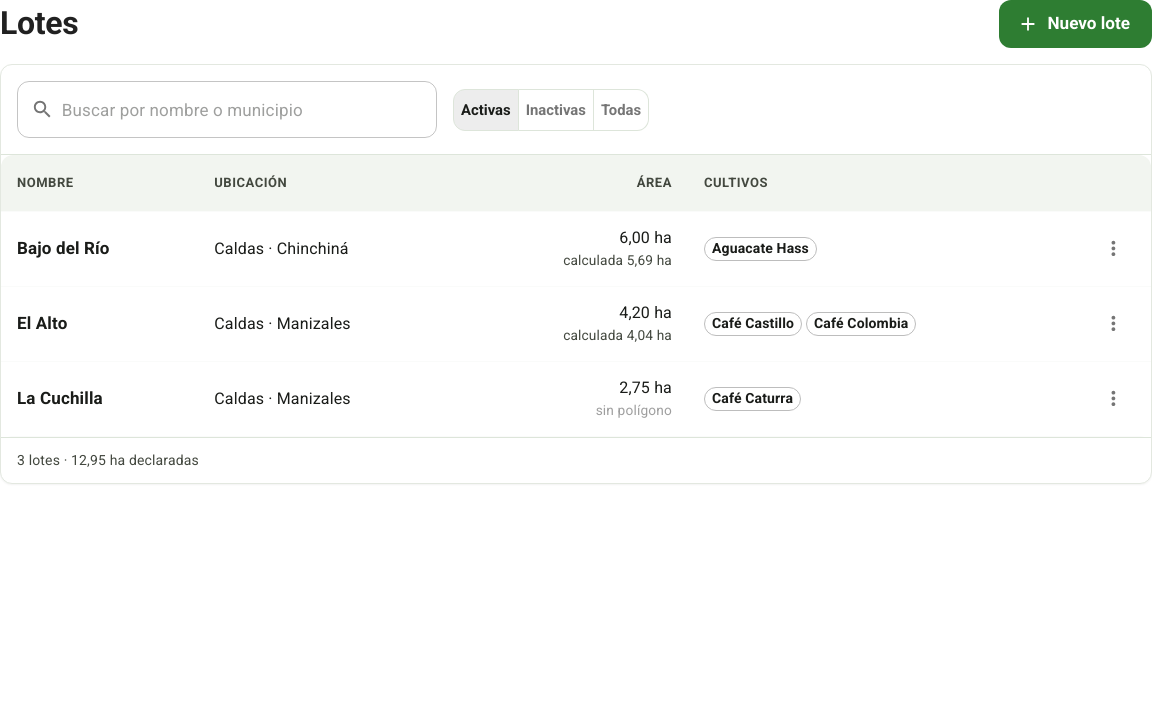
out of service › says why the server refused, and the notice can be closed
Expected: the text "El Alto" is shown, [17,313,67,333]
Click the button named "Acciones de El Alto" at (1113, 324), box [1091,302,1135,346]
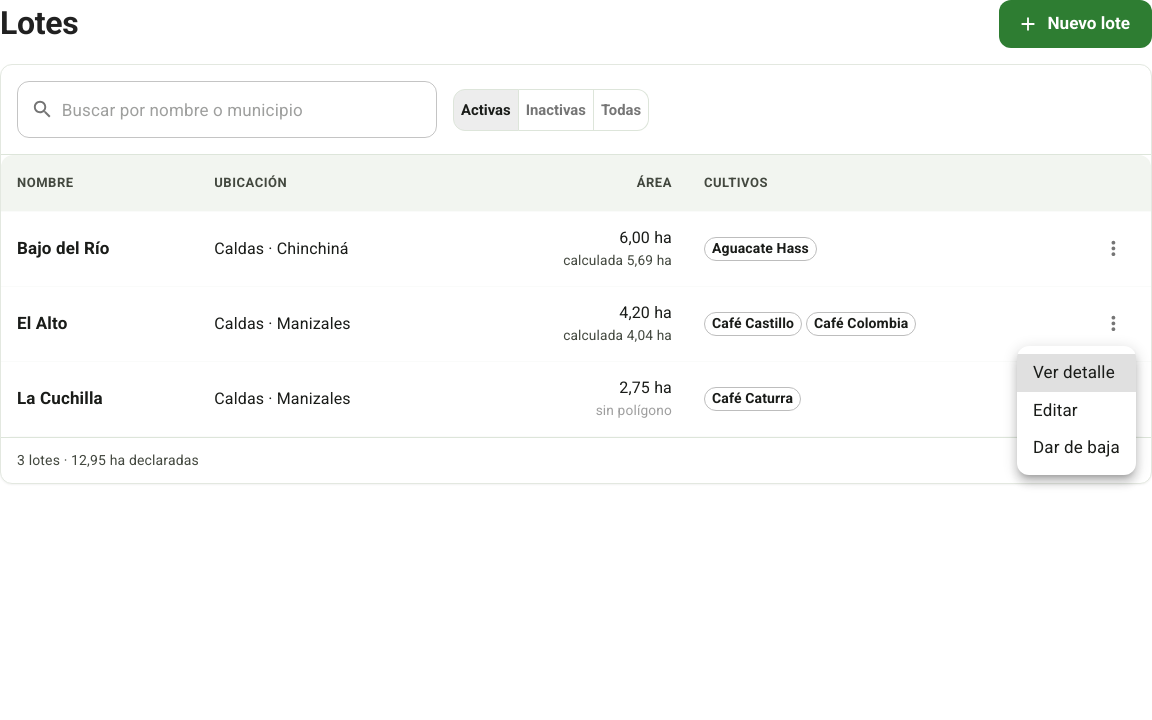
Click the menu item "Dar de baja" at (1076, 447), box [1033,437,1120,457]
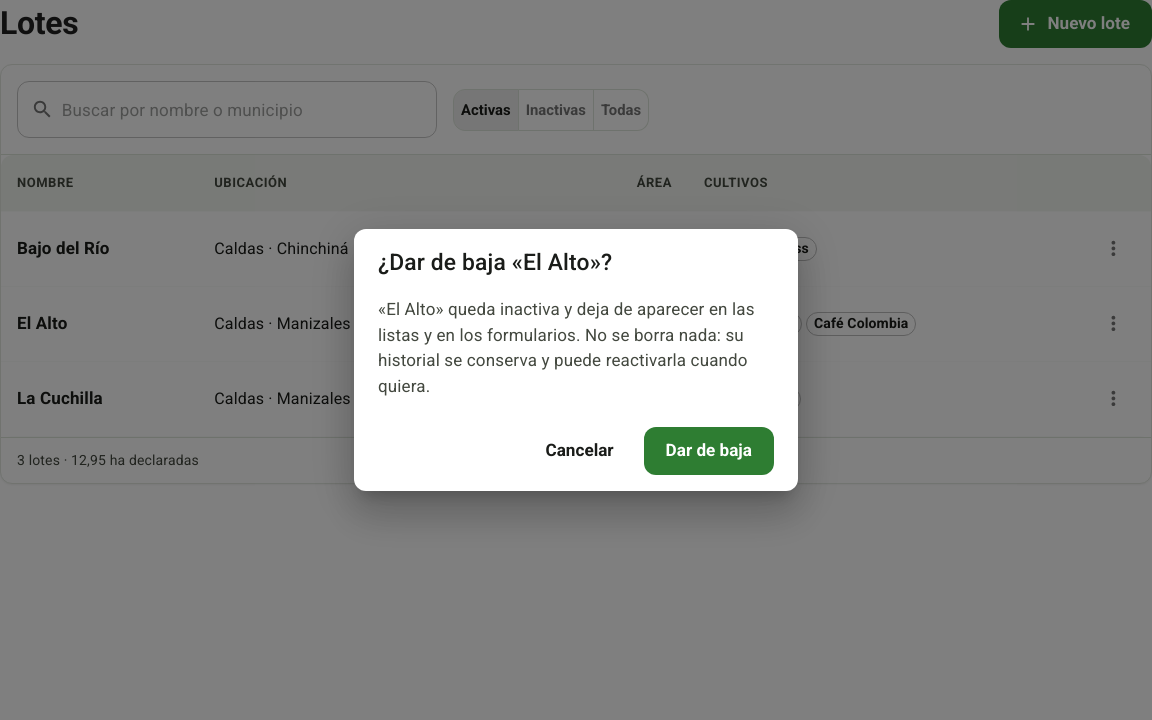
Click the button "Dar de baja" at (709, 451), box [644,427,774,475]
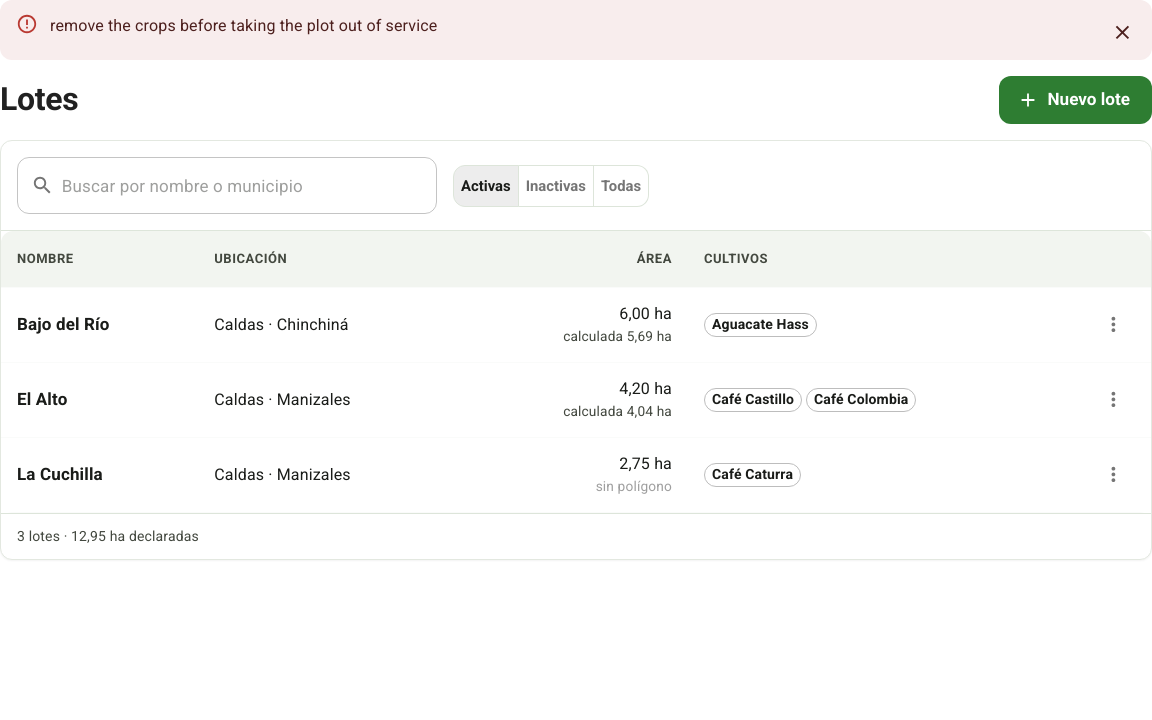
Now the dialog is gone
Now the message "remove the crops before taking the plot out of service" is shown, box [0,0,1151,60]
Click the button named "Cerrar" at (1122, 32), box [1100,10,1144,54]
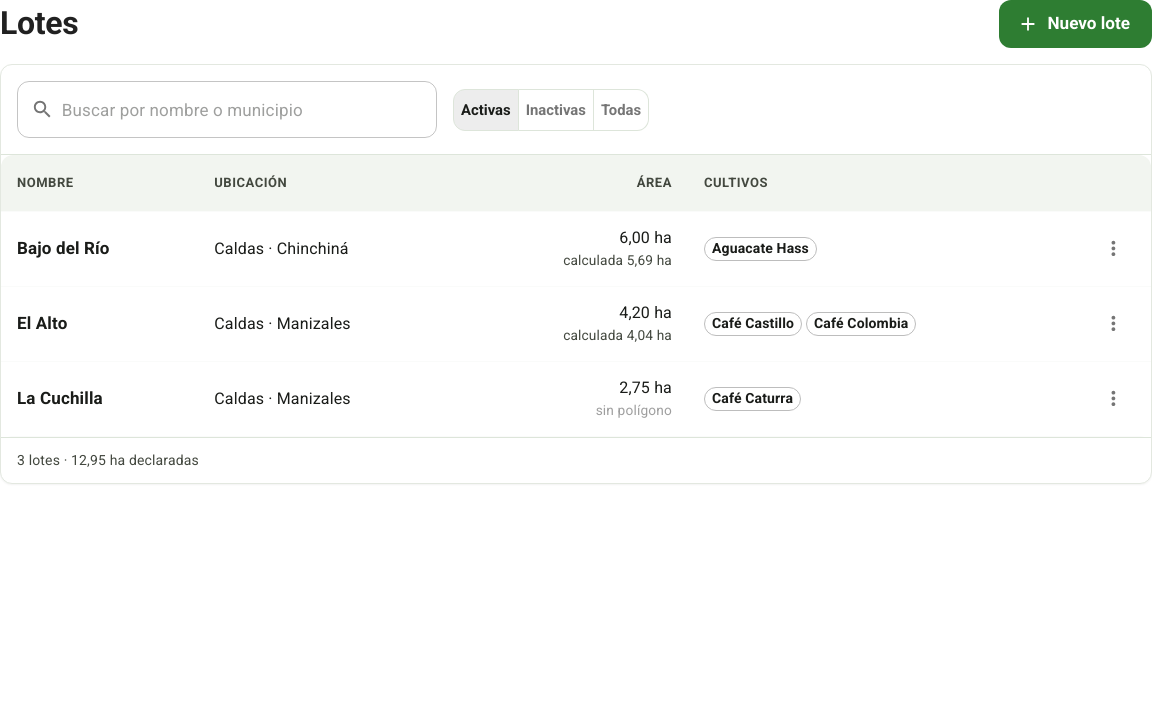
Now the message "remove the crops before taking the plot out of service" is gone
